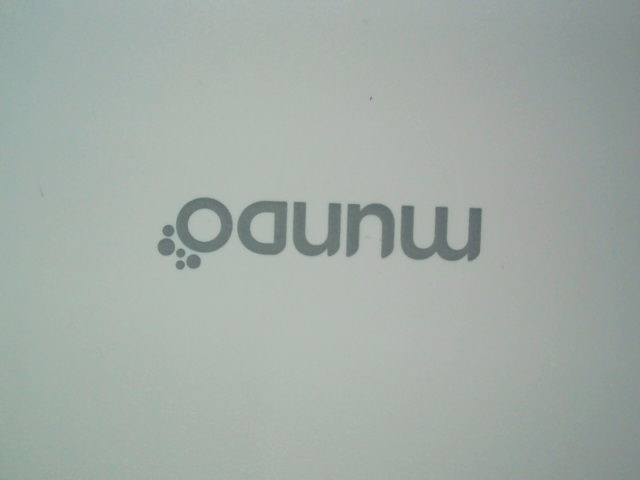BI_MUNDO: (149, 184, 496, 272)
